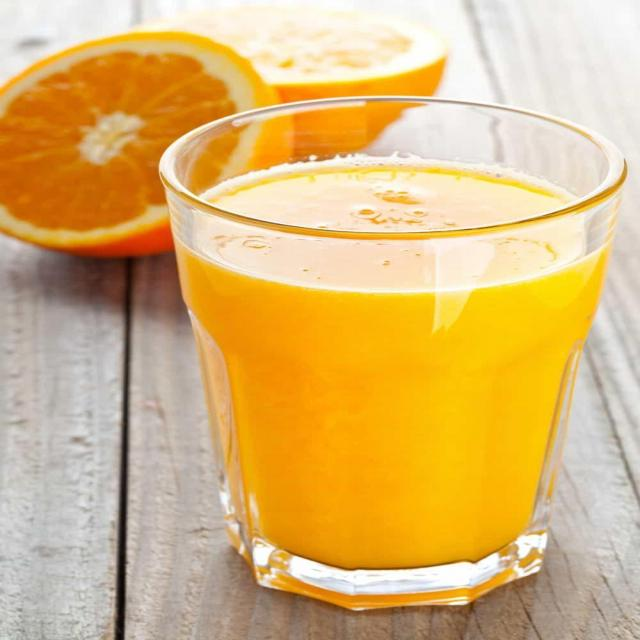glass-normal: (149, 100, 629, 616)
